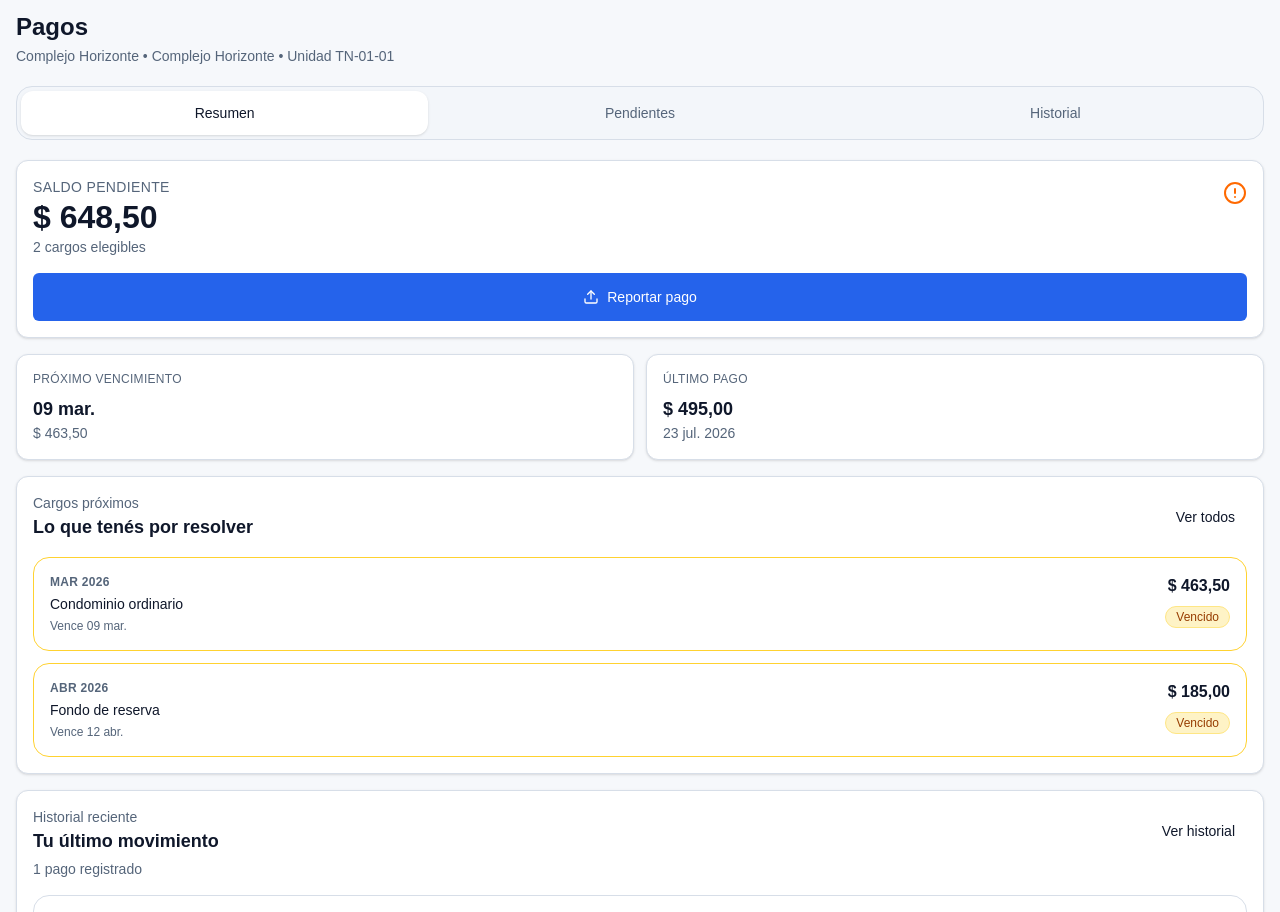
Test case: ResidentPaymentsPage › switches mobile tabs and shows compact pending and history cards
This screenshot has width=1280, height=912.
Click the button "Ver todos": (1205, 517) [1164, 495, 1247, 539]
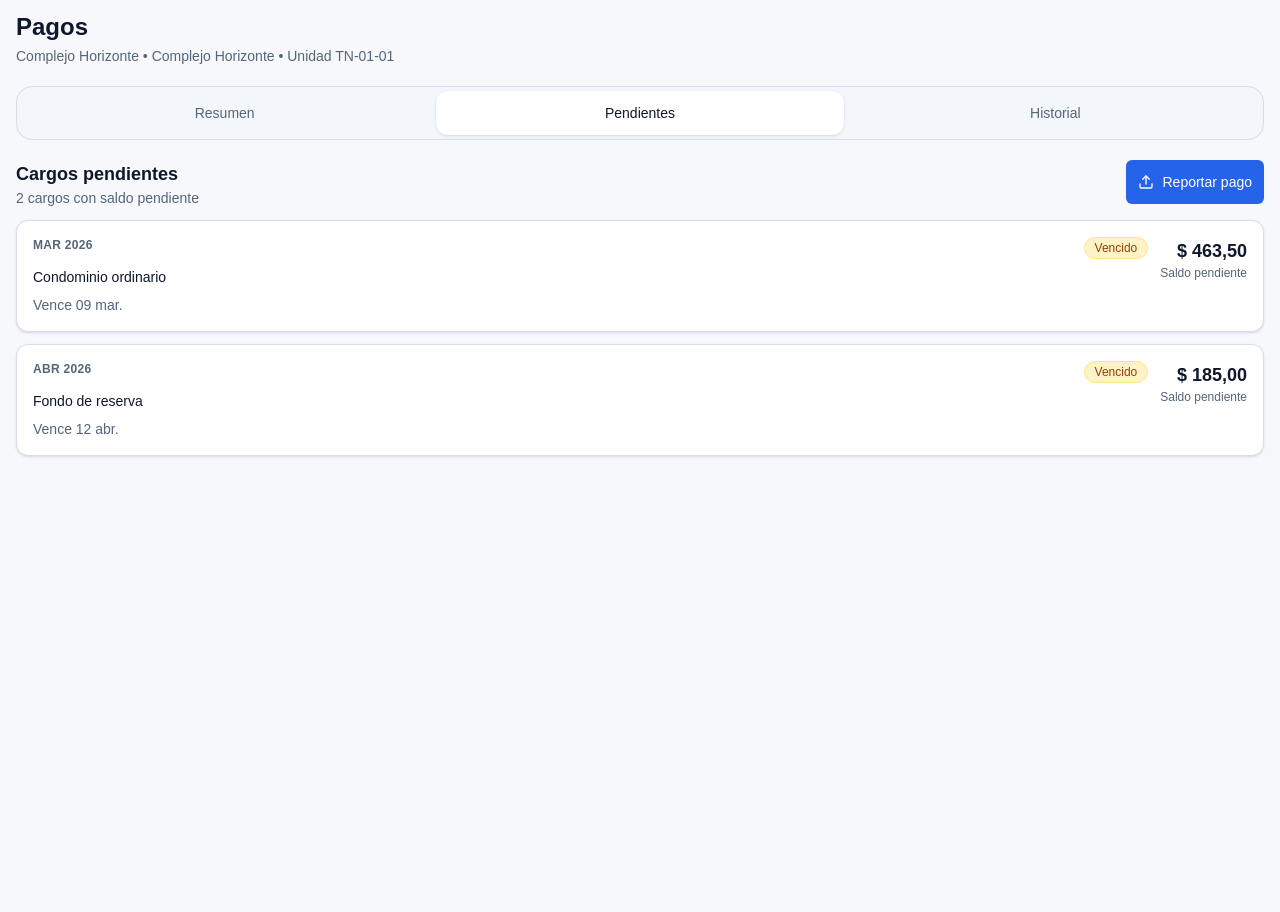
Expected: the text "MAR 2026" is shown, [33, 237, 93, 253]
Now the text "Vencido" is shown 2 times, box [1084, 237, 1148, 259]; [1084, 361, 1148, 383]
Click the tab "Resumen": (225, 113) [21, 91, 428, 135]
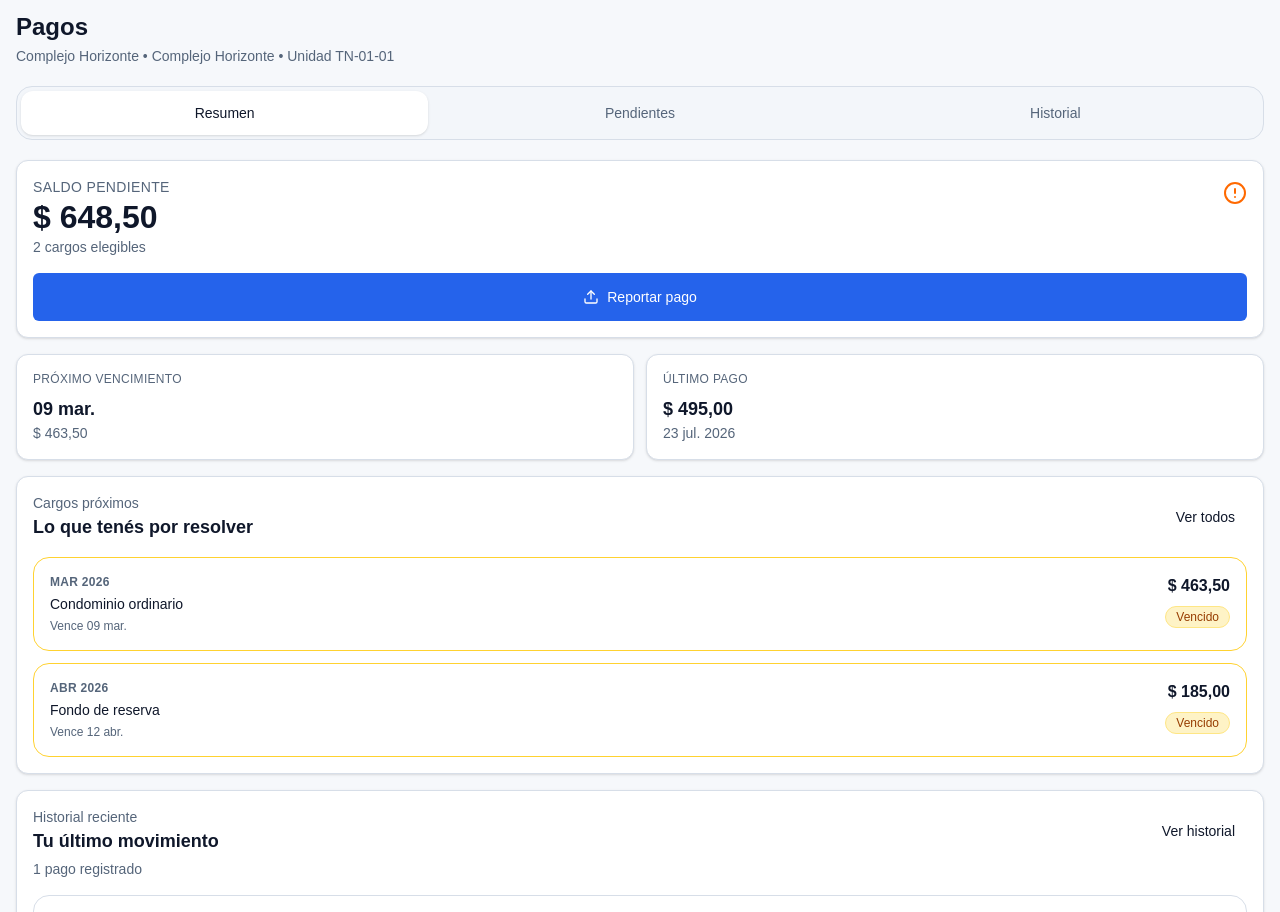
Now the tab "Resumen" is selected, box [21, 91, 428, 135]
Click the button "Ver historial": (1198, 831) [1150, 809, 1247, 853]
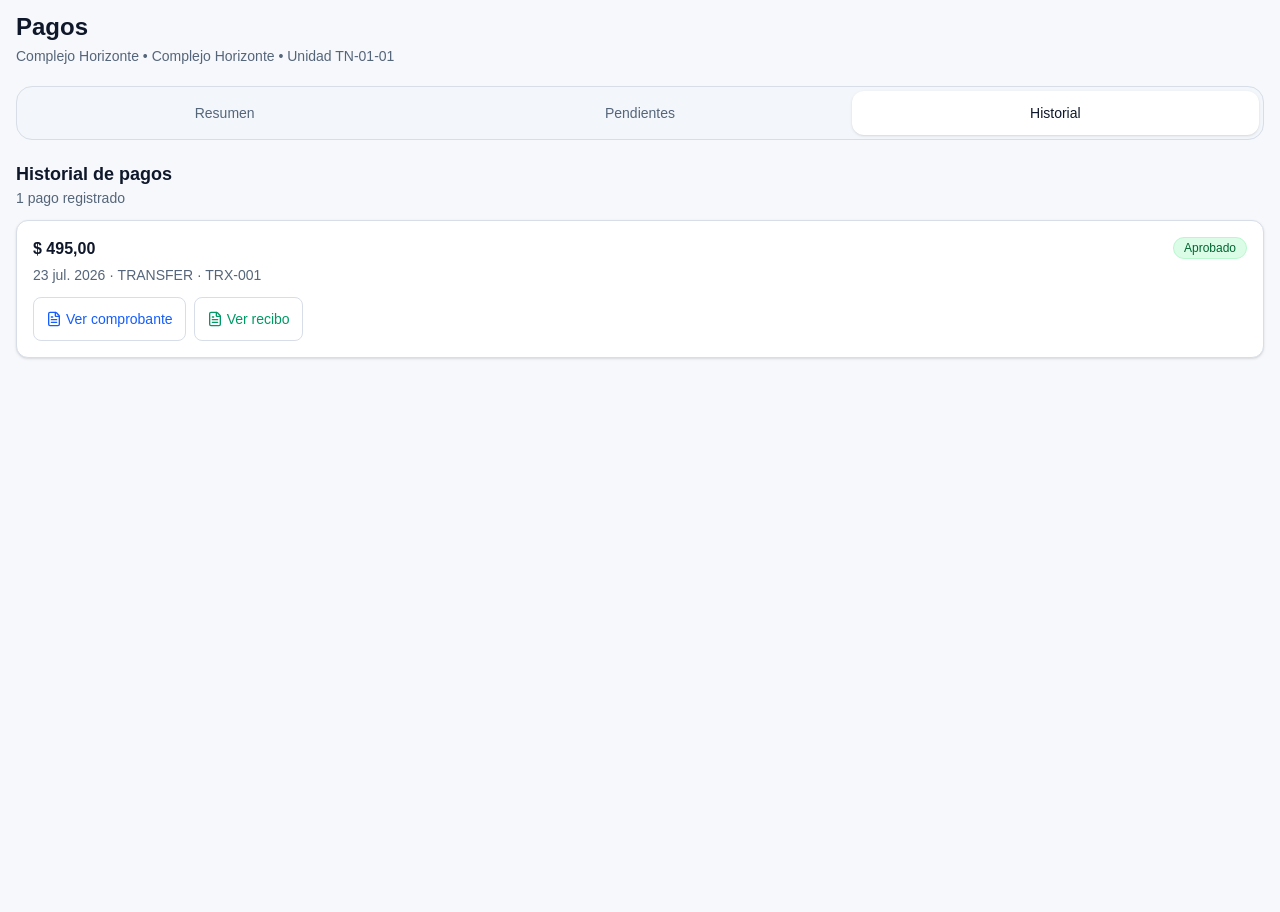
Now the button with aria-label "ver comprobante del pago de" is shown, box [33, 297, 186, 341]
Now the button with aria-label "ver recibo del pago de" is shown, box [194, 297, 303, 341]
Now the heading "Historial de pagos" is shown, box [16, 164, 172, 184]
